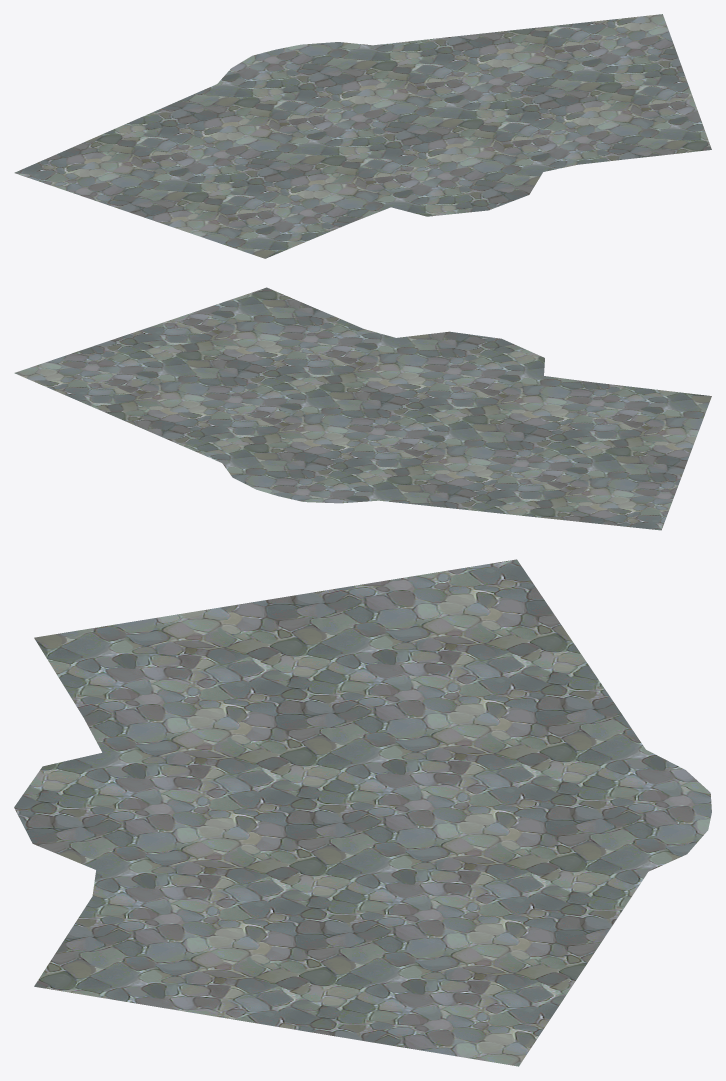
Rendered from Map_06_ground08.FBX.
3 views of the same model, one above another, from view 1: azimuth 30°, elevation 25°; view 2: azimuth 150°, elevation 25°; view 3: azimuth 270°, elevation 25° (orthographic). The views are drawn at different scales.
Visible parts, largest first — view 1: Map_06_ground08; view 2: Map_06_ground08; view 3: Map_06_ground08.
Part boxes in pixels (x1,y1,x2,y2): Map_06_ground08: (14,14,711,258); Map_06_ground08: (14,287,711,530); Map_06_ground08: (14,559,711,1066).
Size of the model in its own units: 2445 by 3.89e-05 by 1422.
Materials: 1 (1 with a texture image).
